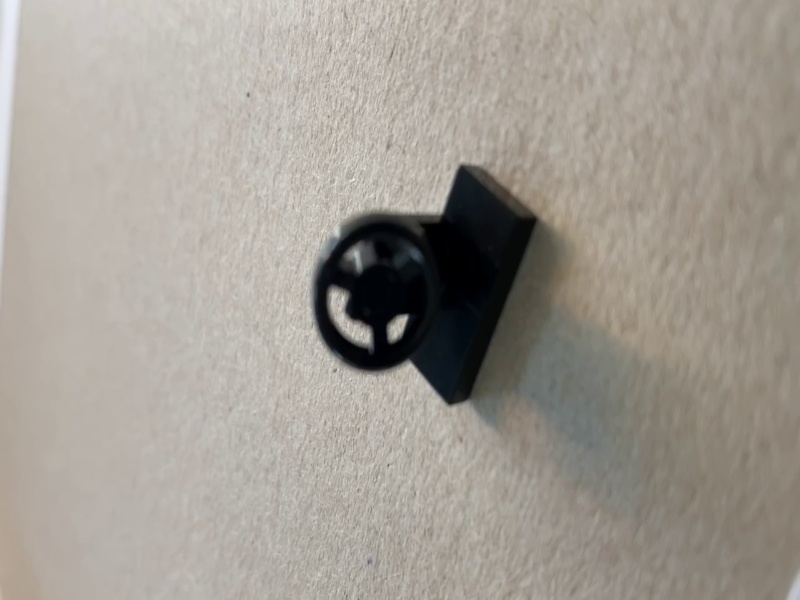steering wheel: (311, 164, 540, 409)
